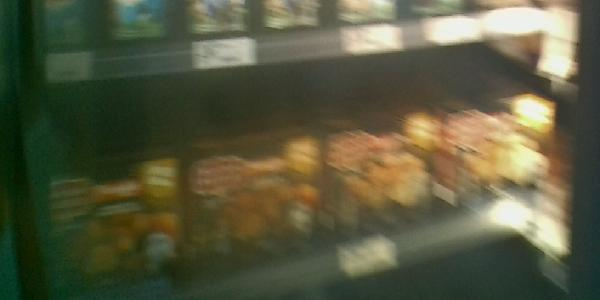icecream: (41, 169, 187, 285), (189, 150, 330, 260), (323, 125, 443, 239), (406, 110, 561, 185)
